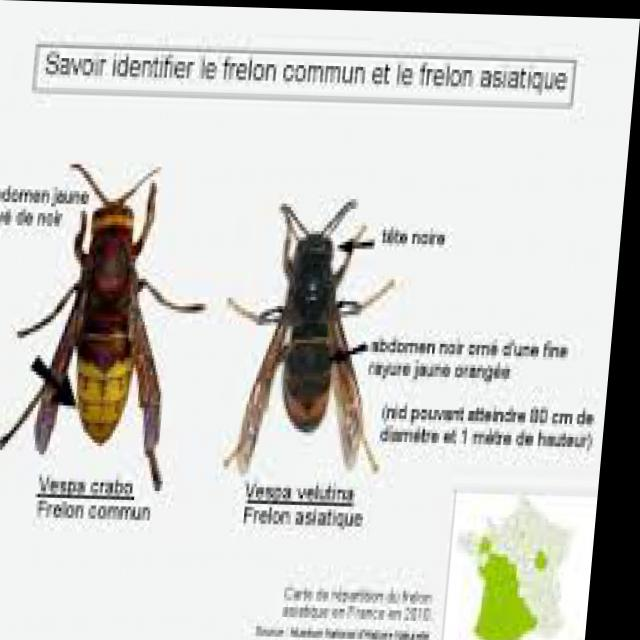Vespa Velutina: (216, 190, 412, 484)
